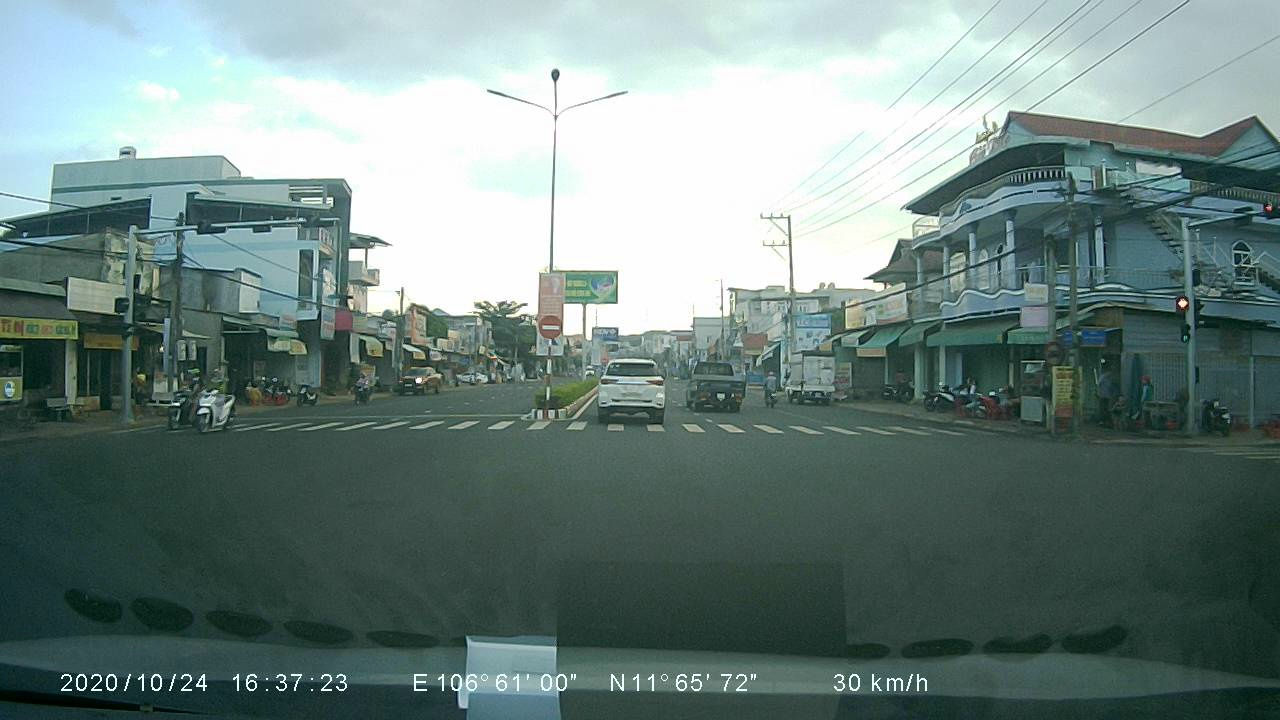Cam di nguoc chieu: (536, 313, 564, 341)
